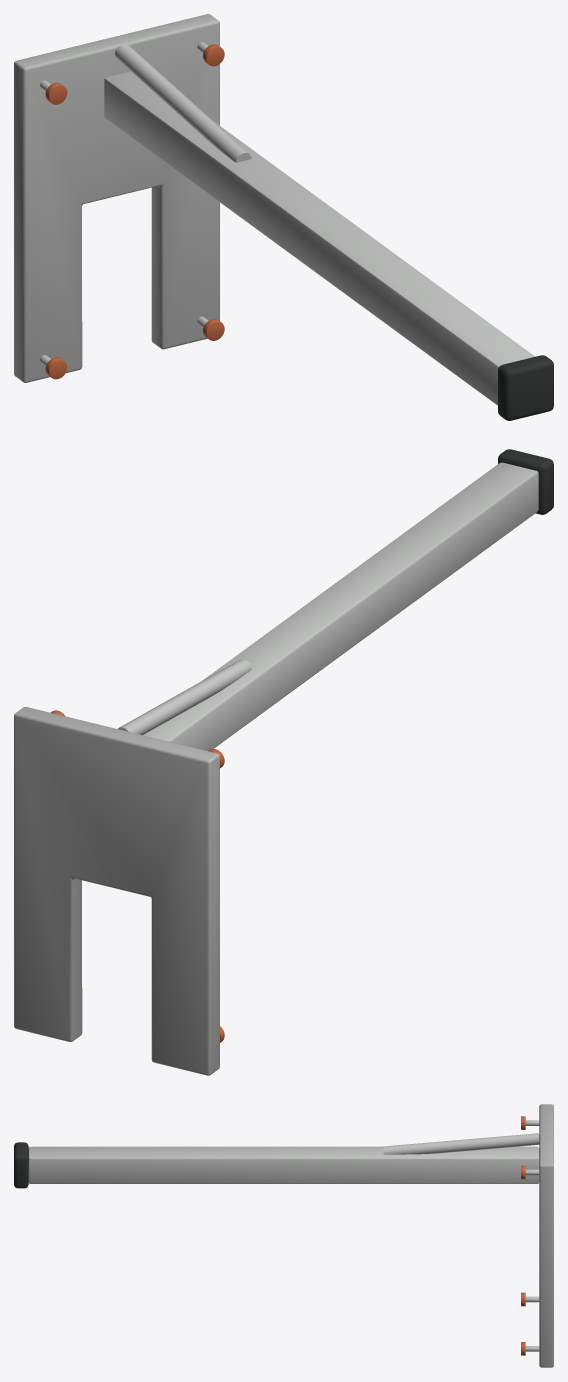
The model's file is diamond_core_drill_rig_body.glb.
The picture shows the model from 3 angles, top to bottom: view 1: azimuth 30°, elevation 25°; view 2: azimuth 150°, elevation 25°; view 3: azimuth 270°, elevation 25°; orthographic projection. The views are drawn at different scales.
Parts seen in each view (by area): view 1: diamond_core_drill_rig_body; view 2: diamond_core_drill_rig_body; view 3: diamond_core_drill_rig_body.
Part boxes in pixels (box(x1,y1,x2,y2)): diamond_core_drill_rig_body: box(14, 14, 553, 420); diamond_core_drill_rig_body: box(14, 449, 553, 1075); diamond_core_drill_rig_body: box(14, 1104, 553, 1367).
Size of the model in its own units: 0.3 by 0.4619 by 1.11.
